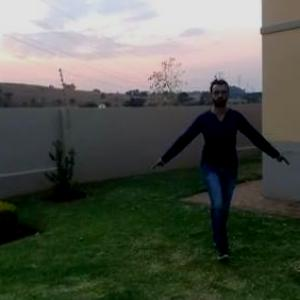land: (155, 82, 286, 249)
